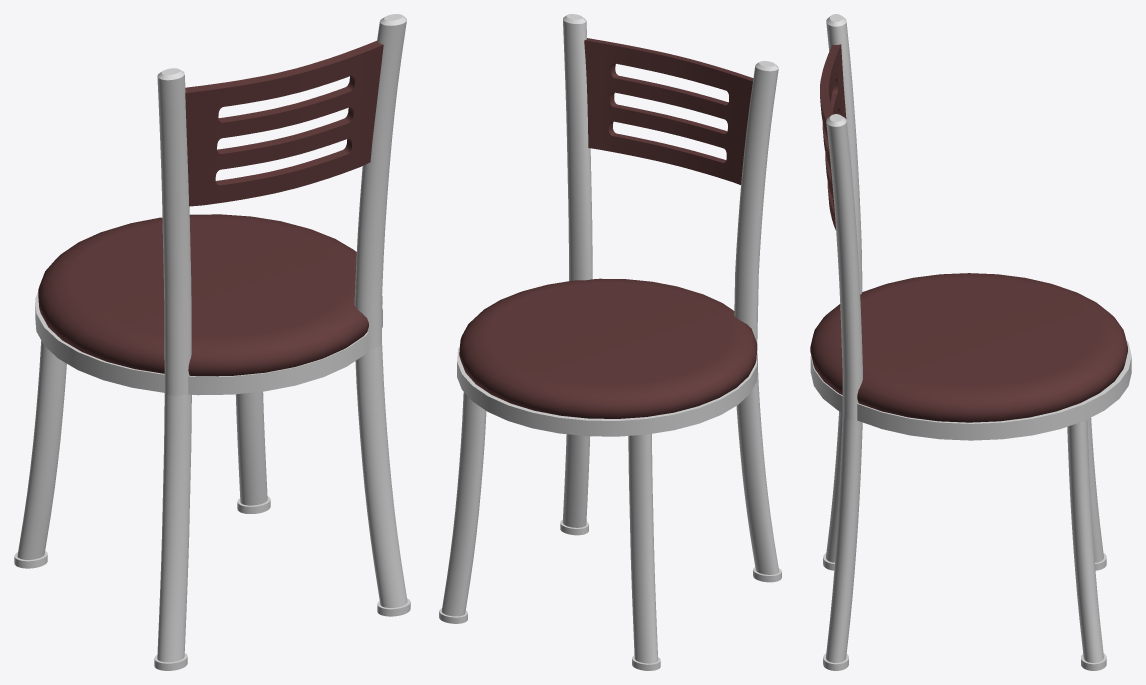
The model's file is Chaise5_5.fbx.
The picture shows the model from 3 angles, left to right: view 1: azimuth 30°, elevation 25°; view 2: azimuth 150°, elevation 25°; view 3: azimuth 270°, elevation 25°; orthographic projection. The views are drawn at different scales.
Parts seen in each view (by area): view 1: pCylinder1683, pCube2686, pCylinder1687, pCylinder1682, pCylinder1686, pCylinder1690, pCylinder1684, pCylinder1688, pCylinder1689; view 2: pCylinder1683, pCube2686, pCylinder1687, pCylinder1682, pCylinder1684, pCylinder1688, pCylinder1689, pCylinder1686, pCylinder1690; view 3: pCylinder1683, pCylinder1682, pCylinder1684, pCylinder1690, pCylinder1689, pCylinder1687, pCube2686, pCylinder1686, pCylinder1688.
Part boxes in pixels (box(x1,y1,x2,y2)): pCylinder1683: box(38, 214, 382, 376); pCube2686: box(185, 40, 383, 206); pCylinder1687: box(157, 68, 191, 395); pCylinder1682: box(354, 14, 406, 349); pCylinder1686: box(154, 393, 191, 670); pCylinder1690: box(355, 344, 410, 616); pCylinder1684: box(35, 291, 382, 395); pCylinder1688: box(14, 340, 66, 568); pCylinder1689: box(235, 391, 270, 513); pCylinder1683: box(459, 278, 757, 418); pCube2686: box(584, 38, 753, 184); pCylinder1687: box(734, 61, 778, 343); pCylinder1682: box(563, 14, 592, 281); pCylinder1684: box(457, 346, 757, 436); pCylinder1688: box(628, 434, 660, 670); pCylinder1689: box(439, 392, 486, 623); pCylinder1686: box(736, 370, 781, 582); pCylinder1690: box(560, 434, 590, 535); pCylinder1683: box(810, 273, 1127, 422); pCylinder1682: box(826, 114, 862, 419); pCylinder1684: box(810, 340, 1131, 440); pCylinder1690: box(823, 416, 862, 670); pCylinder1689: box(1067, 420, 1106, 670); pCylinder1687: box(826, 14, 862, 294); pCube2686: box(820, 44, 846, 229); pCylinder1686: box(823, 411, 842, 570); pCylinder1688: box(1087, 417, 1106, 570).
Size of the model in its own units: 44.7 by 83.92 by 44.78.
